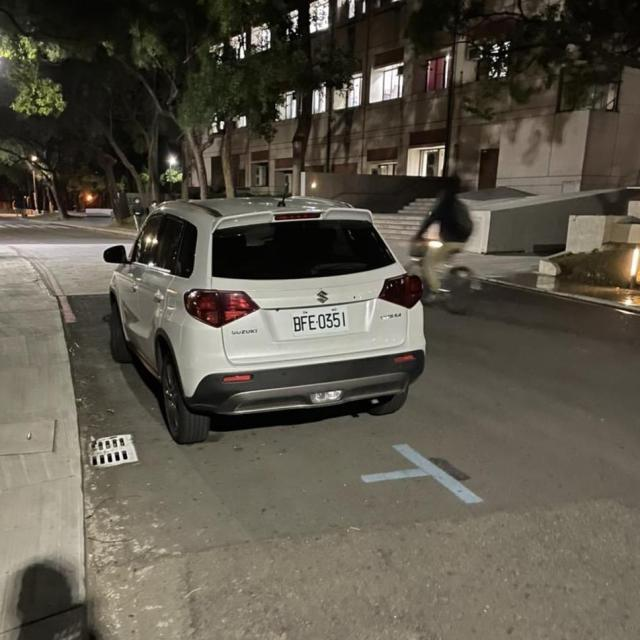W: (287, 303, 352, 338)
